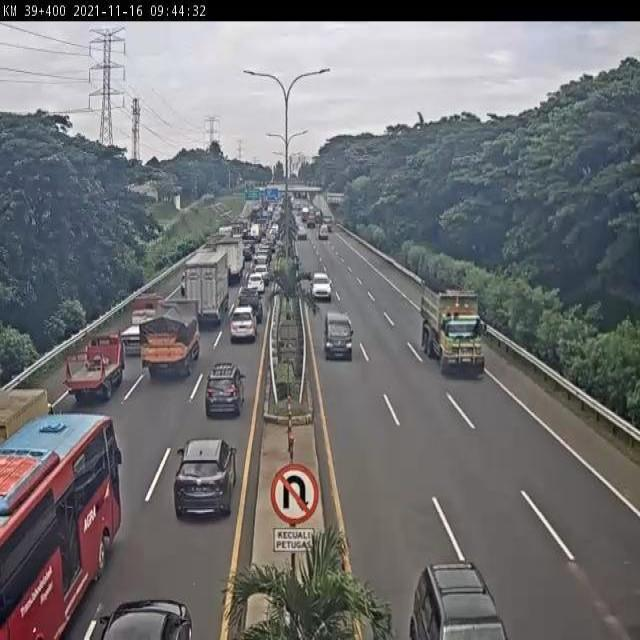ARABA: (174, 440, 236, 523), (205, 362, 242, 414), (324, 311, 354, 358), (228, 310, 258, 346), (235, 296, 262, 332), (310, 270, 332, 302), (247, 274, 266, 294)
KAMYONET: (136, 305, 196, 383), (67, 333, 125, 399), (117, 293, 163, 356), (212, 236, 244, 284)
TIR: (419, 284, 488, 372), (183, 252, 226, 328)
